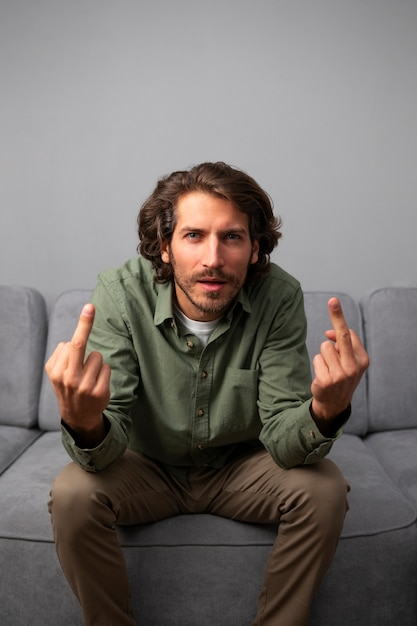insulting_gesture: (40, 301, 113, 432), (305, 297, 374, 421)
